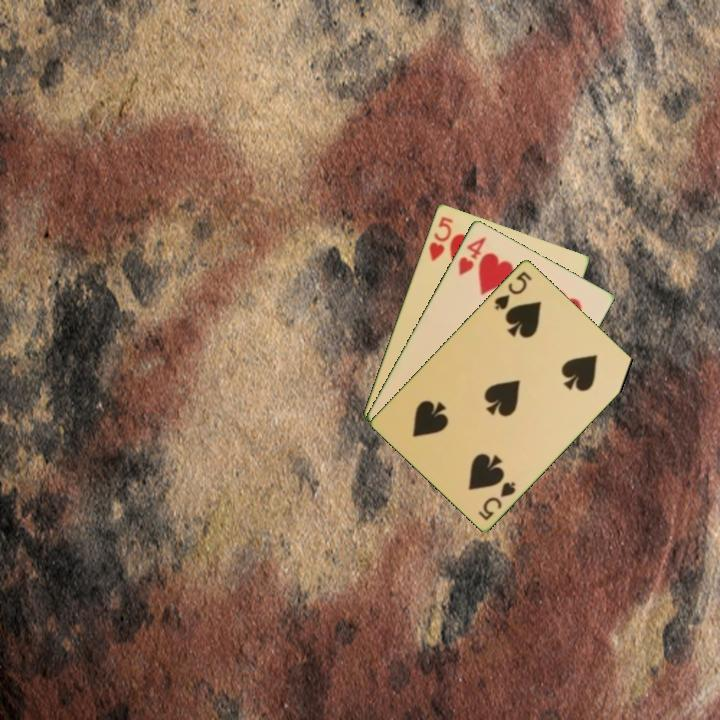4h: (454, 233, 489, 278)
5h: (425, 212, 455, 264)
5s: (474, 477, 519, 523), (491, 267, 535, 312)
